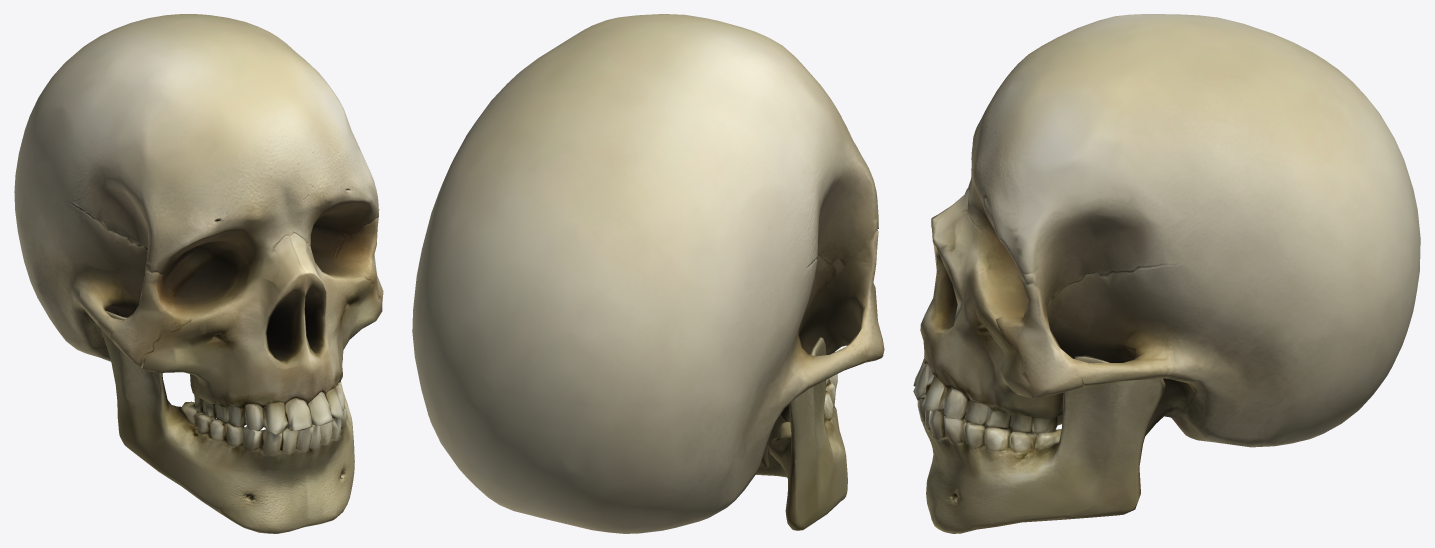
File: caveira.glb
The picture shows the model from 3 angles, left to right: view 1: azimuth 30°, elevation 25°; view 2: azimuth 150°, elevation 25°; view 3: azimuth 270°, elevation 25°; orthographic projection. The views are drawn at different scales.
Parts seen in each view (by area): view 1: tripo_node_bd4c0895-36c2-4c63-a6b1-04bbbb2cee63; view 2: tripo_node_bd4c0895-36c2-4c63-a6b1-04bbbb2cee63; view 3: tripo_node_bd4c0895-36c2-4c63-a6b1-04bbbb2cee63.
Part boxes in pixels (<box>): tripo_node_bd4c0895-36c2-4c63-a6b1-04bbbb2cee63: <box>14,14,383,533</box>; tripo_node_bd4c0895-36c2-4c63-a6b1-04bbbb2cee63: <box>412,14,884,533</box>; tripo_node_bd4c0895-36c2-4c63-a6b1-04bbbb2cee63: <box>913,14,1420,533</box>.
Size of the model in its own units: 0.6381 by 0.9801 by 0.9379.
Materials: 1 (1 with a texture image).
